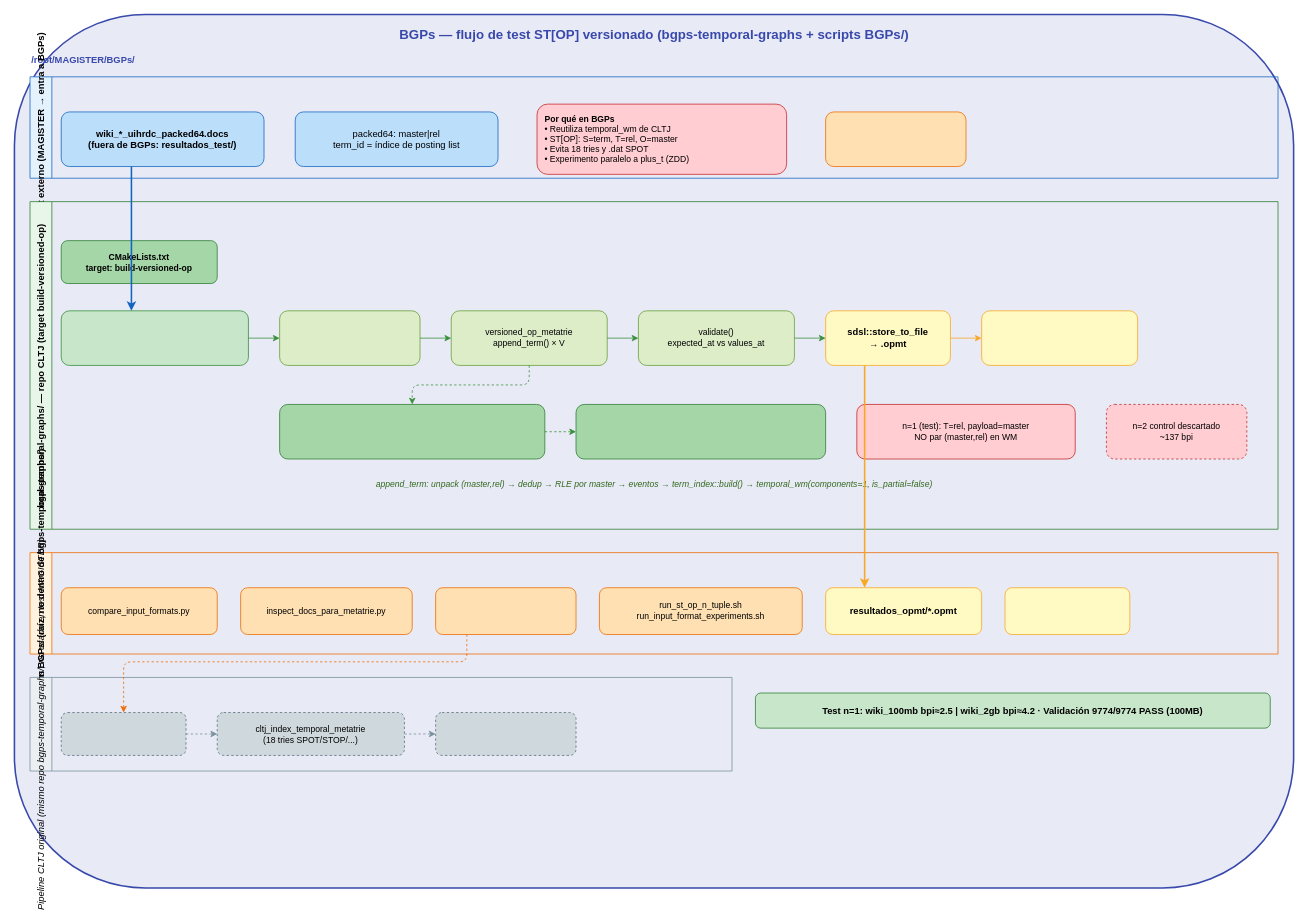
Image size: 1307x923. Some labels were removed from this diagram. The box of each missing label's shape, as (x1, y1, x2, y2) in pixels:
.dat SPOT → .cltj: (435, 712, 576, 755)
BGPs/make_toy_ versioned_docs.py: (825, 111, 966, 167)
build-index.cpp: (60, 712, 186, 755)
Consulta: (term, rel) → {masters} values_at() + leap(): (981, 310, 1138, 365)
docs_to_spot_dat.py: (435, 587, 576, 635)
include/cltj_temporal_wm.hpp VBT compacto B/E, leap(), get_root(): (575, 404, 826, 459)
include/versioned_op_metatrie.hpp term_index, RLE insert/delete, m_times: (279, 404, 545, 459)
inspect_docs() read_posting_list(): (279, 310, 420, 365)
resultados_*.csv: (1004, 587, 1130, 635)
src/build-versioned-op.cpp CLI: components input.docs output.opmt: (60, 310, 248, 365)
